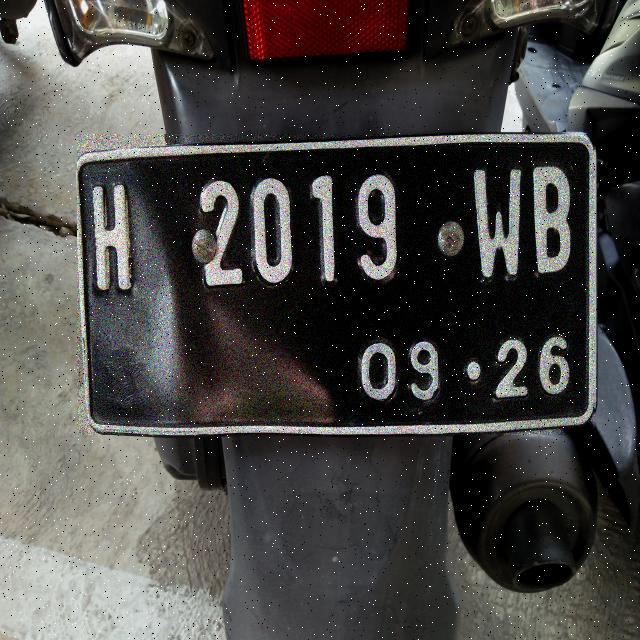plate: (77, 135, 593, 434)
